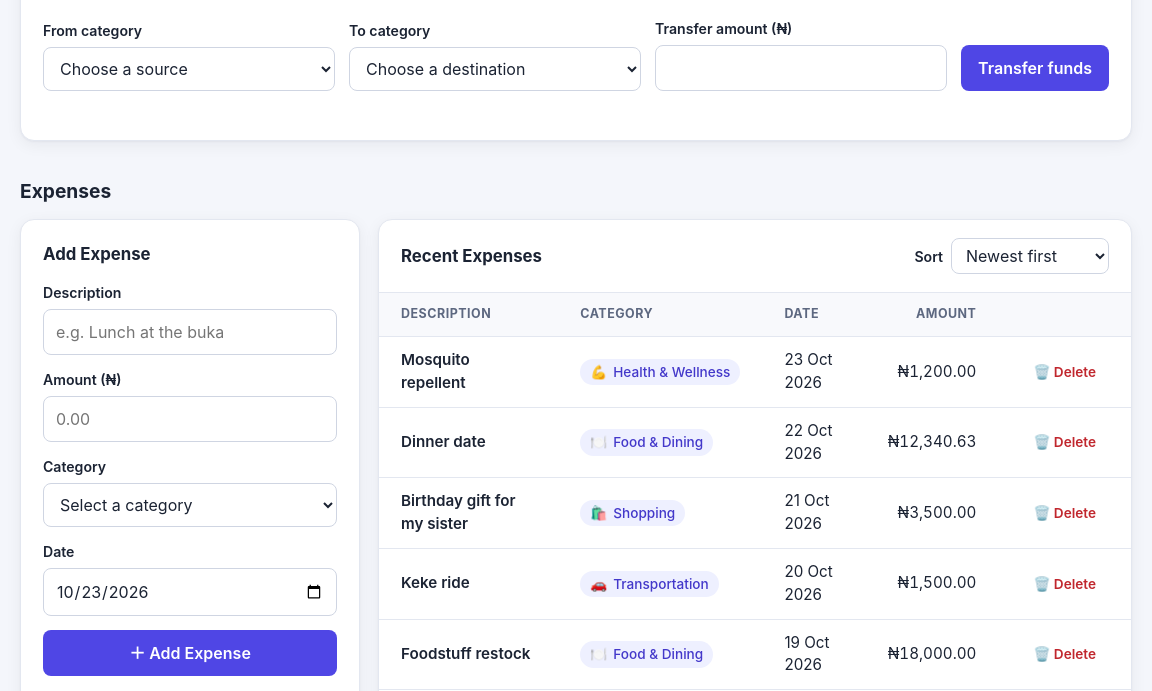
Test: App › adding an expense › adds the expense to the list, updates the category and saves it
The width and height of the screenshot is (1152, 691).
(page scrolled)
In the field labelled "Description": (190, 332) [43,309,337,355], type "Team lunch"
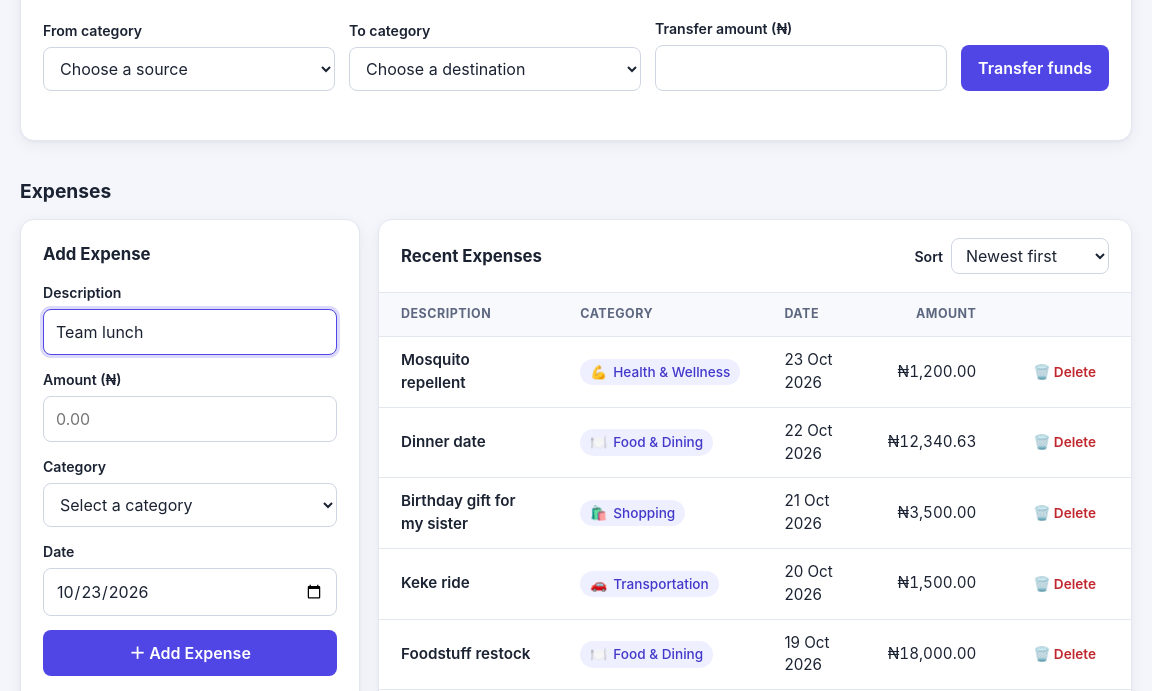
In the number field labelled "Amount (₦)": (190, 419) [43,396,337,442], type "2500.5"
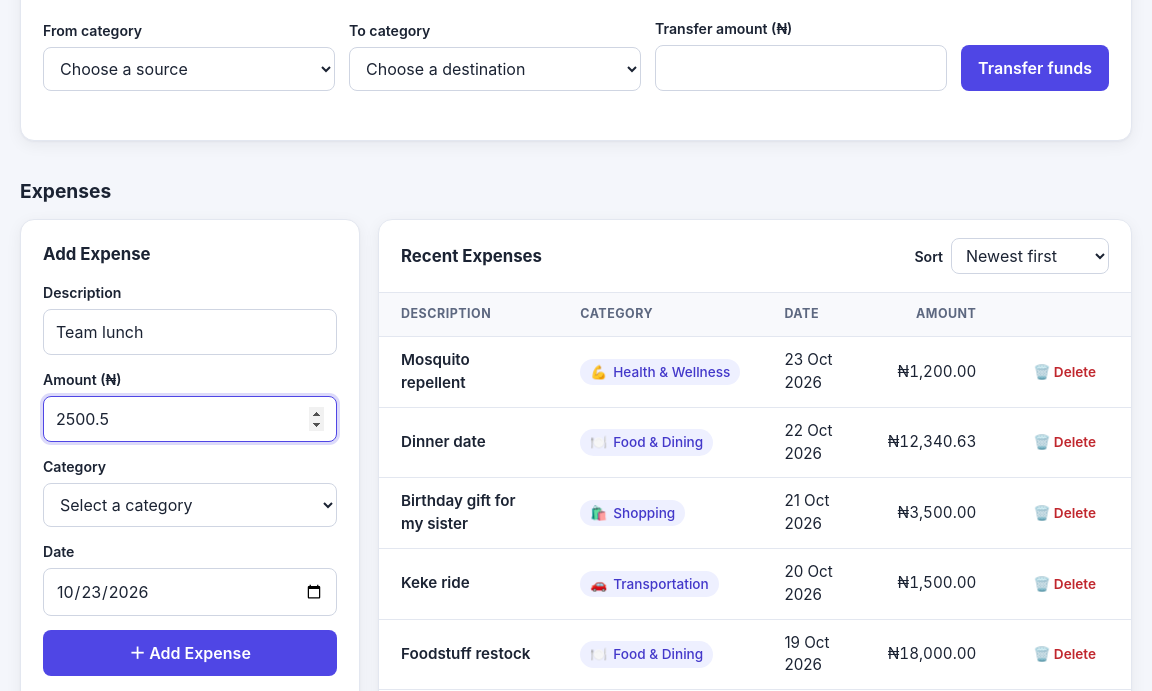
Select "Entertainment" in the dropdown labelled "Category": (190, 505) [43,483,337,527]
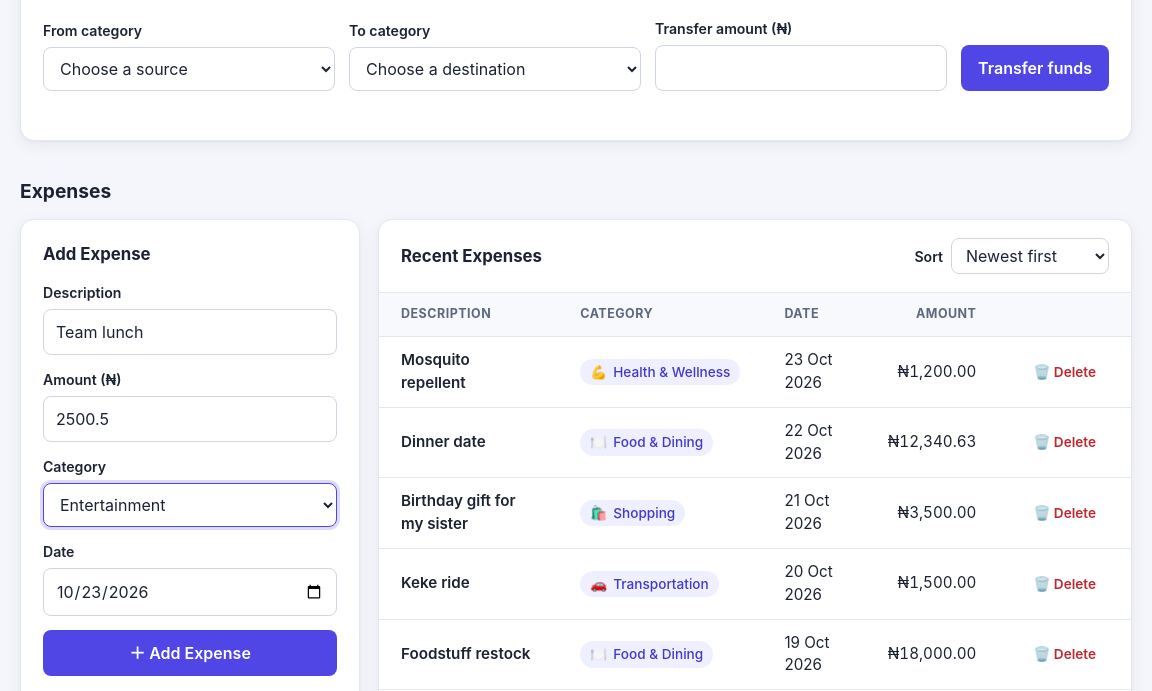
Click the button "＋ Add Expense": (190, 653) [43,630,337,676]
(page scrolled)
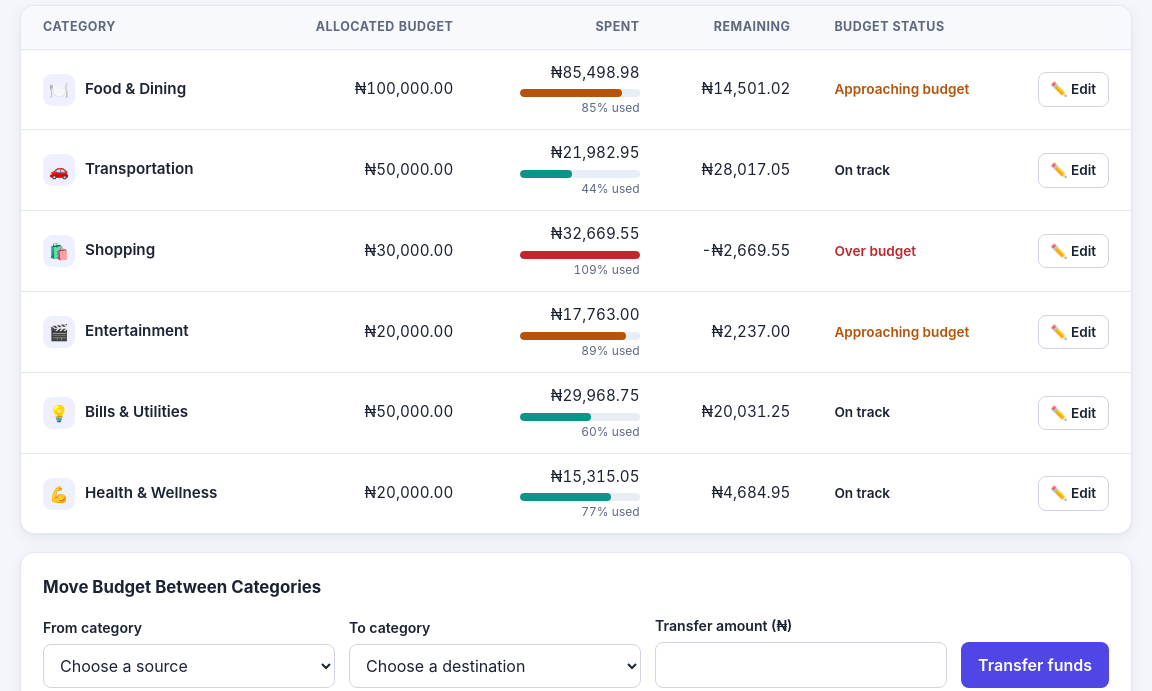
Now the text "₦17,763.00" is shown, box [551,305,640,324]
Now the text "₦2,237.00" is shown, box [662,292,812,372]
